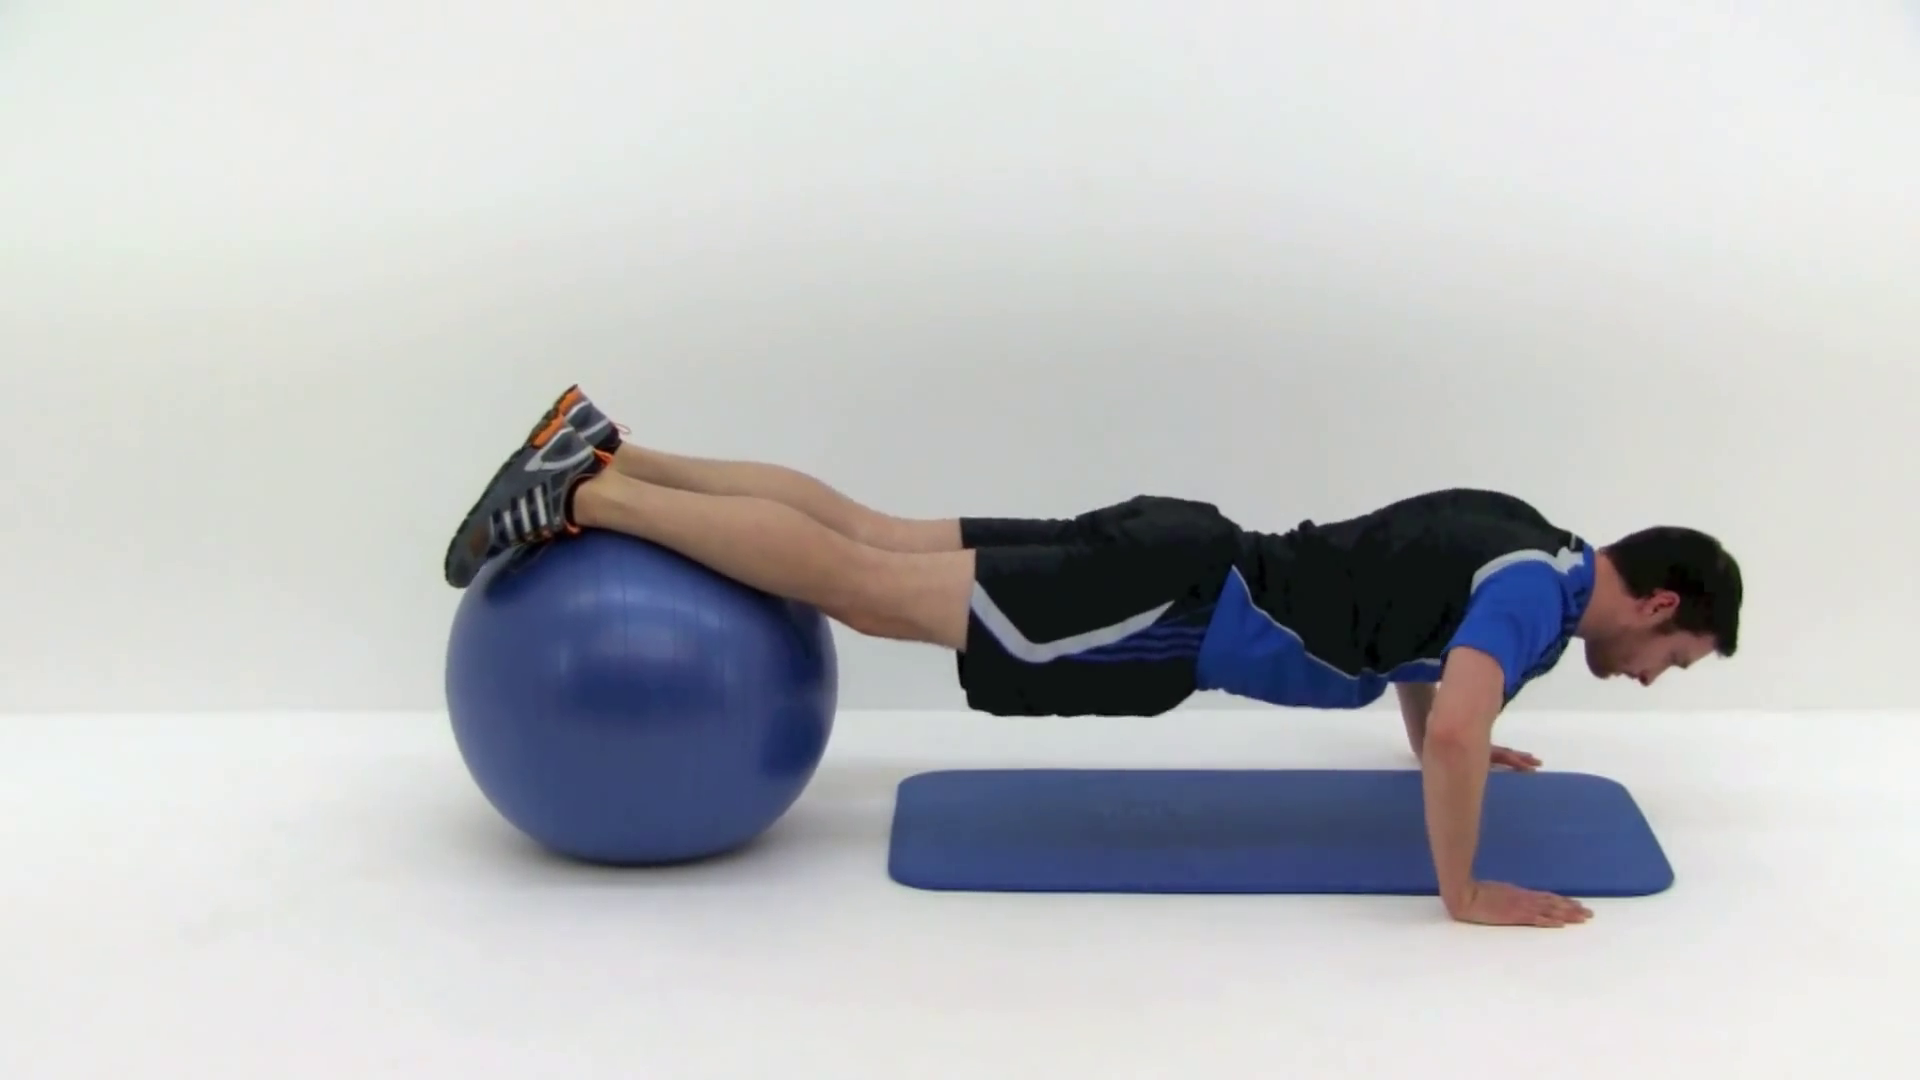yogaball: (430, 512, 847, 876)
